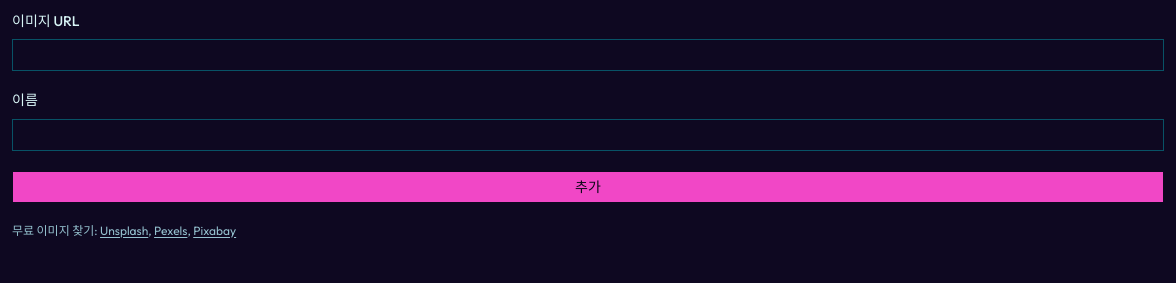
AddImageForm › [S4] 실패 응답이 오면 에러 메시지가 나타나고 입력값이 유지된다
Type "https://example.com/broken.jpg" into the field labelled "이미지 URL".
click(588, 55); type("https://example.com/broken.jpg")  # box [12,39,1164,71]
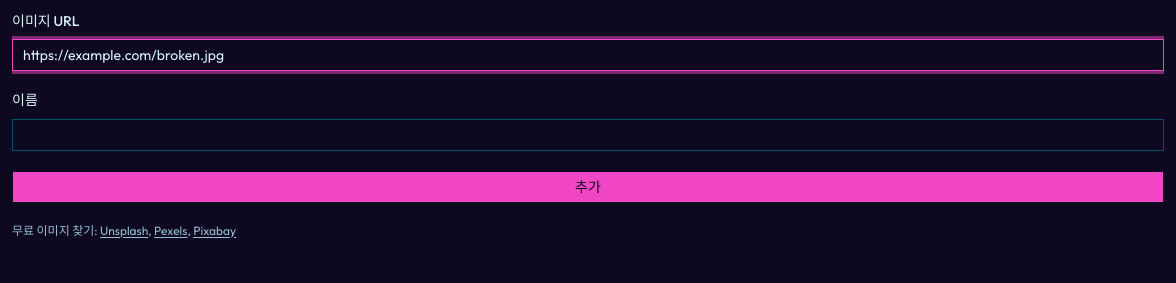
Type "깨진 이미지" into the field labelled "이름".
click(588, 134); type("깨진 이미지")  # box [12,118,1164,150]
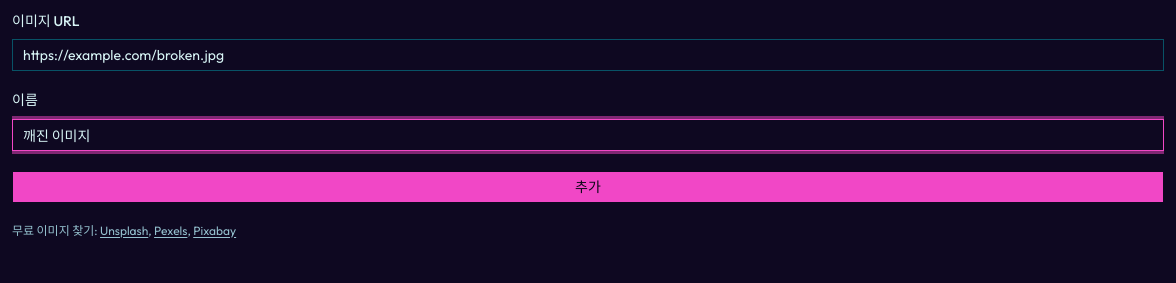
Click the button "추가".
click(588, 186)  # box [12,170,1164,202]
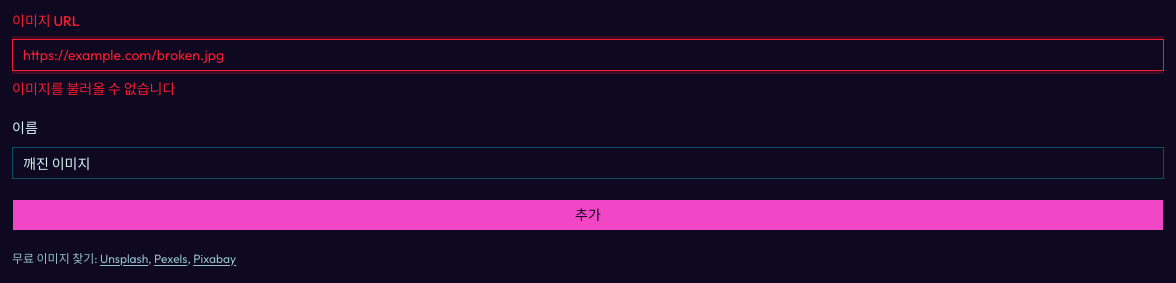
Expected: the text "이미지를 불러올 수 없습니다" is shown, [12,80,175,98]
